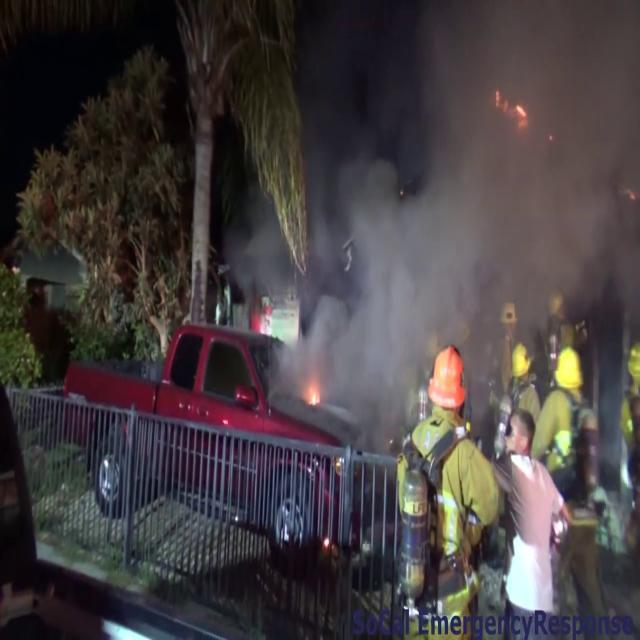Smoke: (279, 0, 639, 402)
